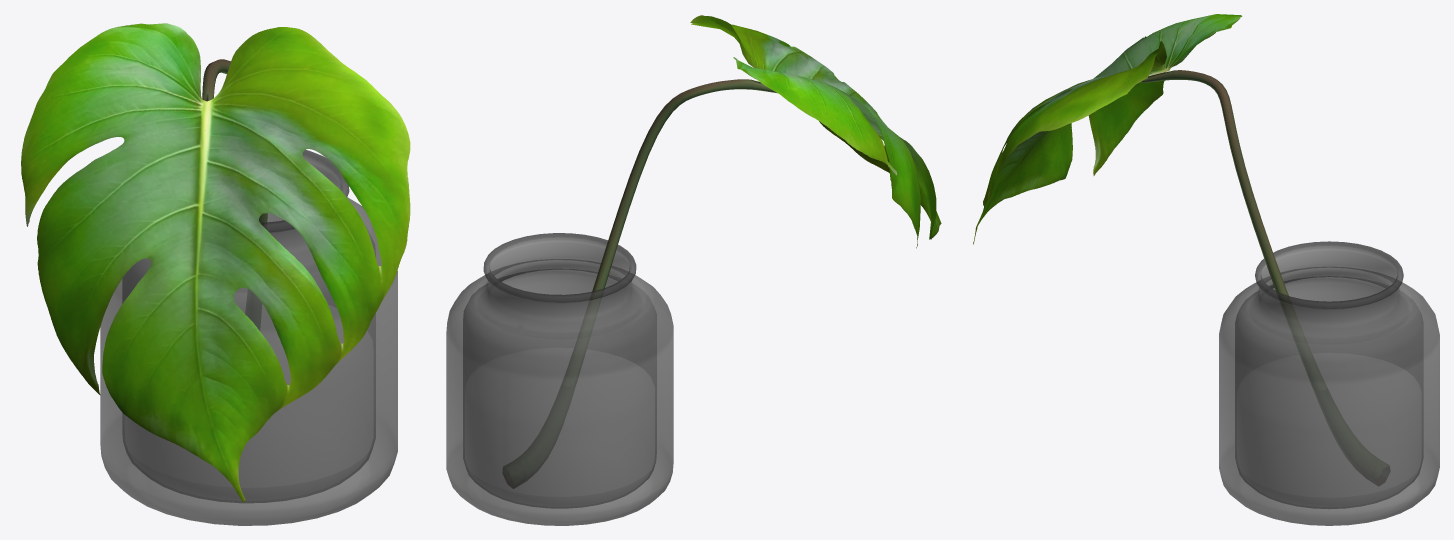
The model's file is plant-jar.glb.
3 renders of one model, left to right at view 1: azimuth 30°, elevation 25°; view 2: azimuth 150°, elevation 25°; view 3: azimuth 270°, elevation 25°, orthographic. The views are drawn at different scales.
Parts seen in each view (by area): view 1: Plane.011_MI_MZRa_Monstera_B03a_0, Circle.005_MI_MZRa_Monstera_B03b_0; view 2: Circle.005_MI_MZRa_Monstera_B03b_0, Plane.011_MI_MZRa_Monstera_B03a_0; view 3: Circle.005_MI_MZRa_Monstera_B03b_0, Plane.011_MI_MZRa_Monstera_B03a_0.
Boxes of the visible parts, box(x1,y1,x2,y2) form: Plane.011_MI_MZRa_Monstera_B03a_0: box(21, 23, 410, 502); Circle.005_MI_MZRa_Monstera_B03b_0: box(100, 150, 397, 525); Circle.005_MI_MZRa_Monstera_B03b_0: box(446, 233, 673, 525); Plane.011_MI_MZRa_Monstera_B03a_0: box(503, 15, 941, 488); Circle.005_MI_MZRa_Monstera_B03b_0: box(1219, 241, 1439, 525); Plane.011_MI_MZRa_Monstera_B03a_0: box(973, 14, 1389, 485).
Bounding box in the file's own units: 1.56 × 1.81 × 1.85.
3 materials, 3 textured.
